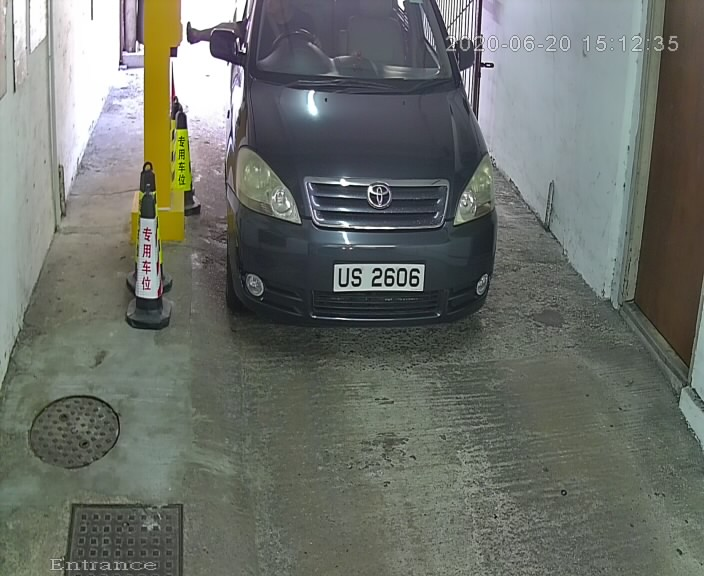privatecar: (200, 3, 508, 358)
